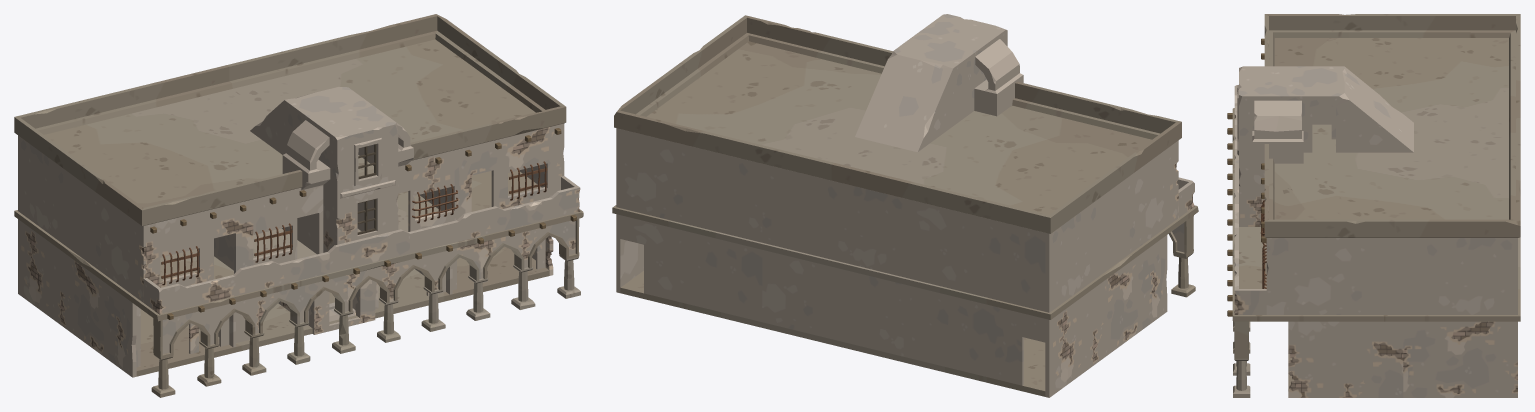
Rendered from SM_Bld_Shop_06.fbx.
3 renders of one model, left to right at view 1: azimuth 30°, elevation 25°; view 2: azimuth 150°, elevation 25°; view 3: azimuth 270°, elevation 25°, orthographic. The views are drawn at different scales.
Parts seen in each view (by area): view 1: SM_Bld_Shop_06; view 2: SM_Bld_Shop_06; view 3: SM_Bld_Shop_06.
Part boxes in pixels (x1=…): SM_Bld_Shop_06: x1=14, y1=14, x2=583, y2=397; SM_Bld_Shop_06: x1=612, y1=14, x2=1198, y2=397; SM_Bld_Shop_06: x1=1227, y1=14, x2=1520, y2=397.
Size of the model in its own units: 2147 by 1027 by 1278.
